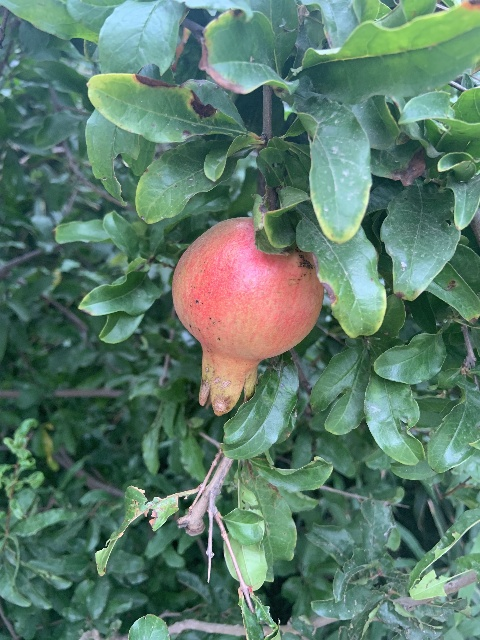ripe: (171, 217, 323, 416)
